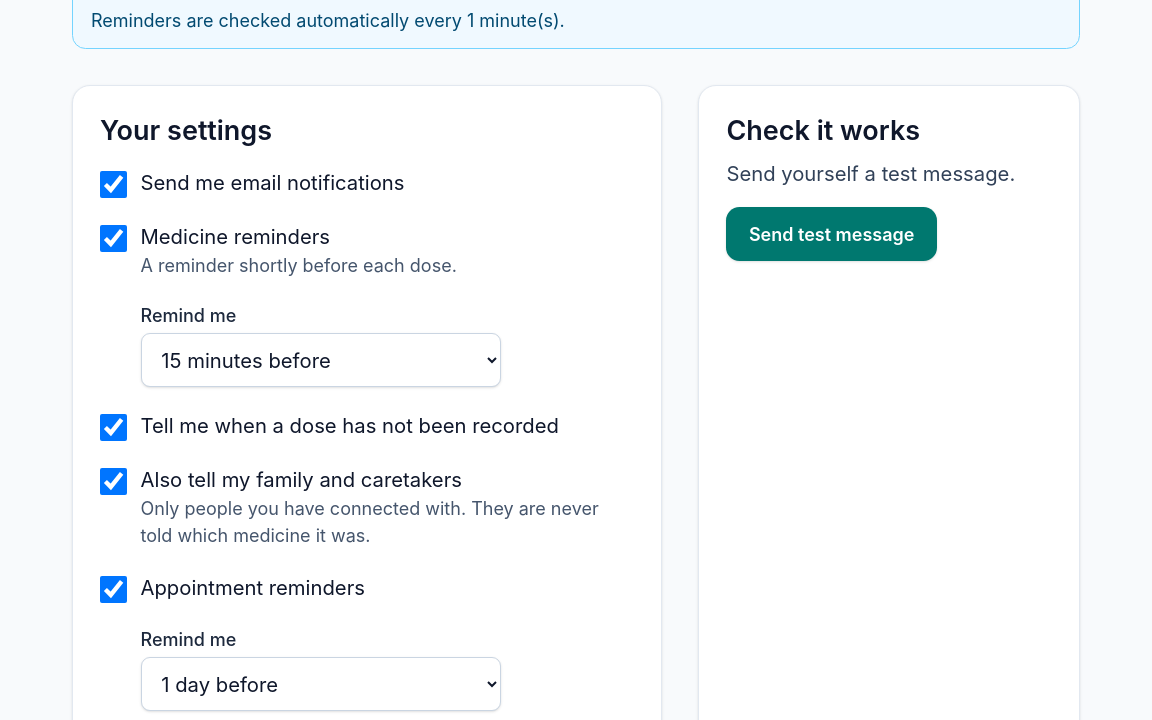
Test: notifications page › lets the elderly user change reminder timing
(page scrolled)
Select "30 minutes before" in the 1st dropdown labelled "Remind me" at (320, 360), box [140,333,500,387]
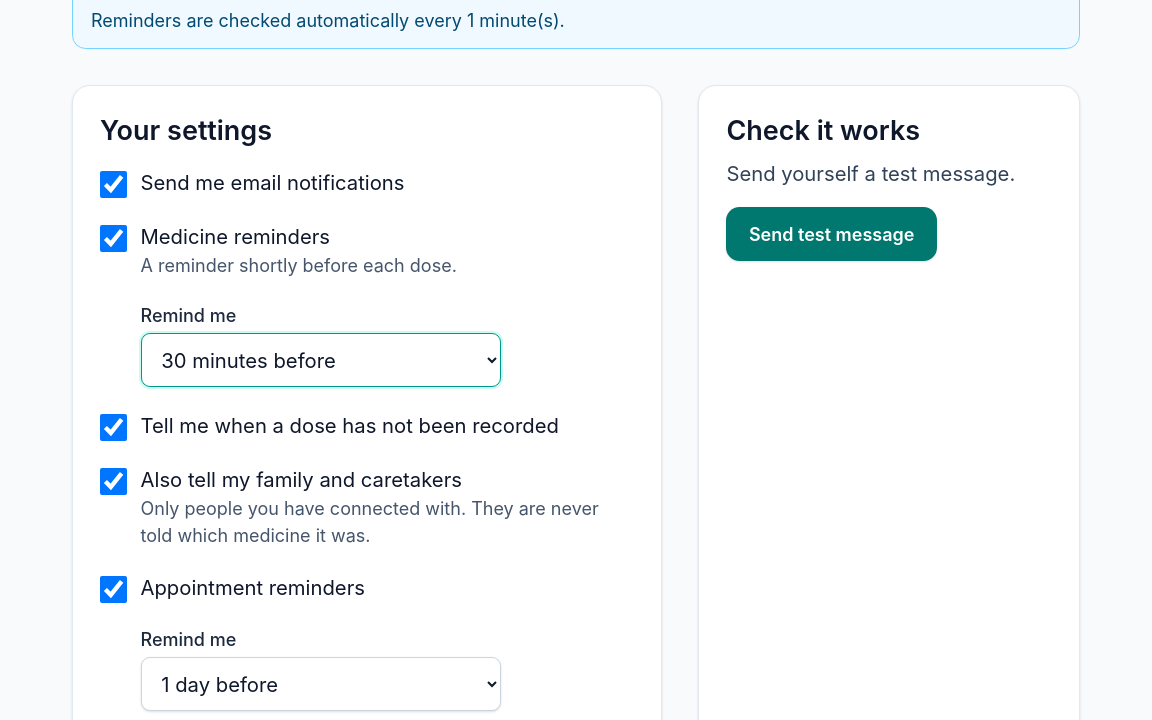
Click the checkbox labelled "Appointment reminders" at (114, 590), box [100,576,127,603]
(page scrolled)
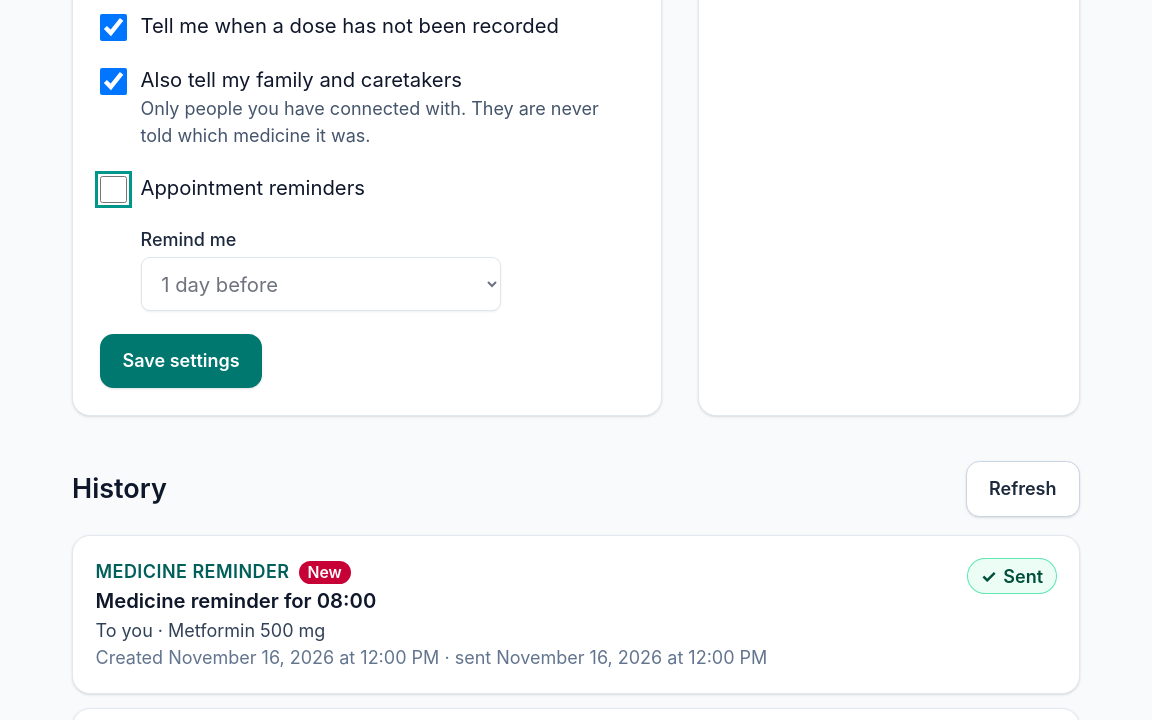
Click the button "Save settings" at (181, 361), box [100,334,262,388]
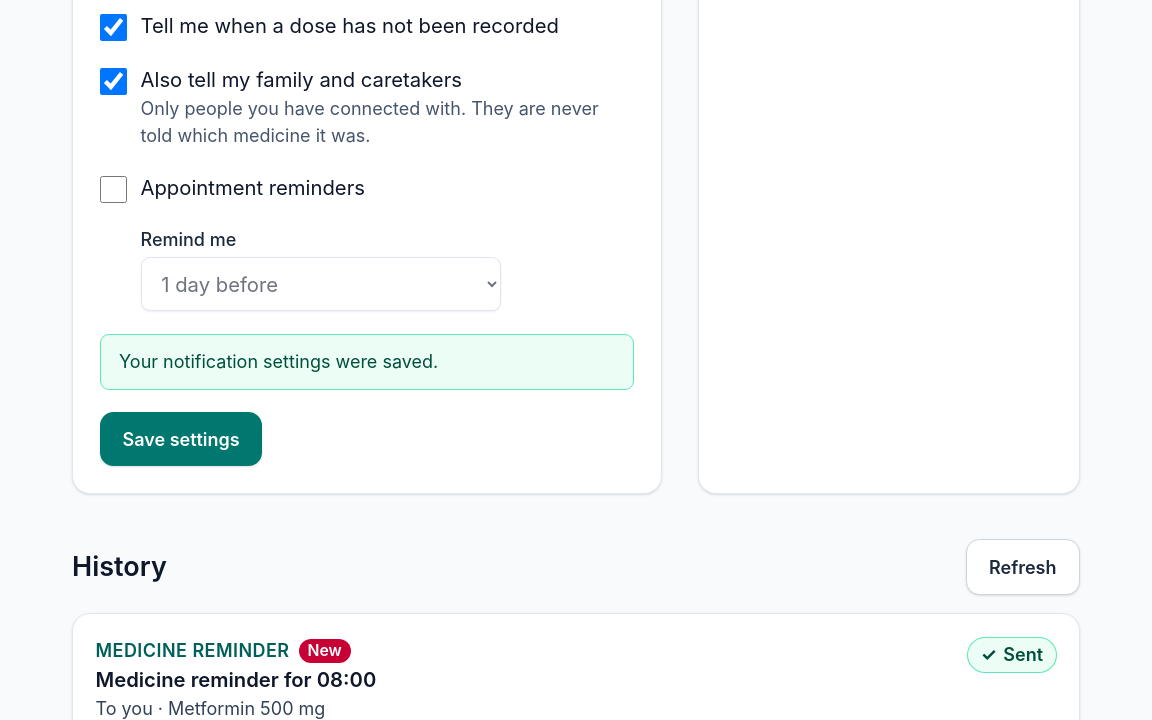
Result: the text "Your notification settings were saved." is shown at [100,334,634,390]
